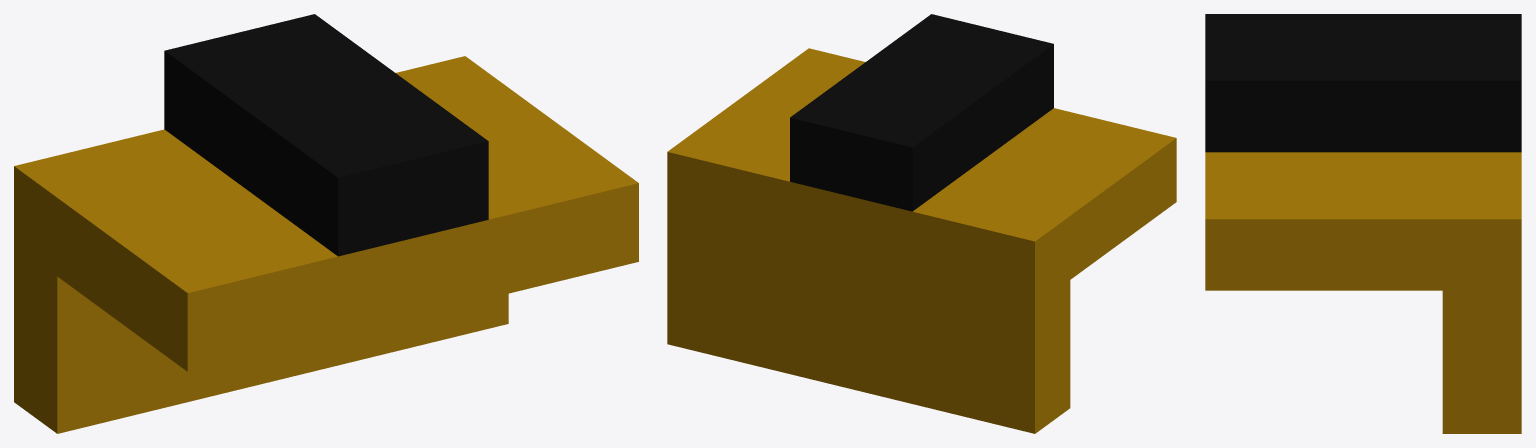
File: ModSmith-0.obj
3 renders of one model, left to right at view 1: azimuth 30°, elevation 25°; view 2: azimuth 150°, elevation 25°; view 3: azimuth 270°, elevation 25°, orthographic. The views are drawn at different scales.
Size of the model in its own units: 0.6 by 0.4 by 0.4.
1 material, 1 textured.
